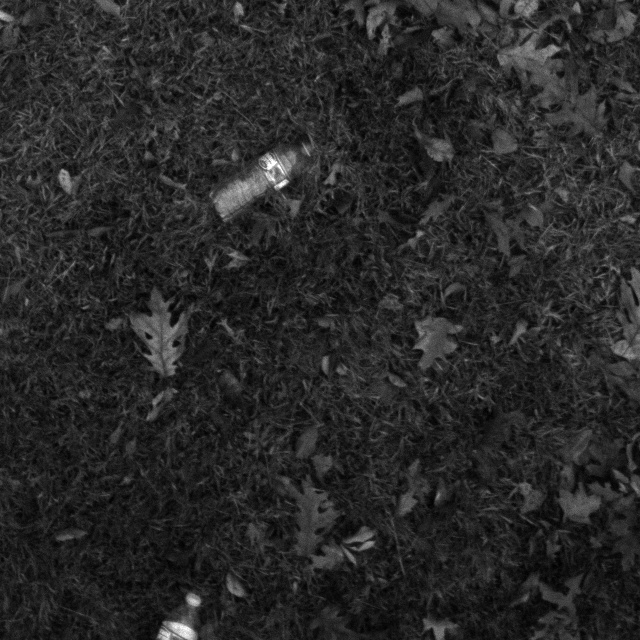bottle: (206, 126, 331, 226), (139, 583, 218, 640)
